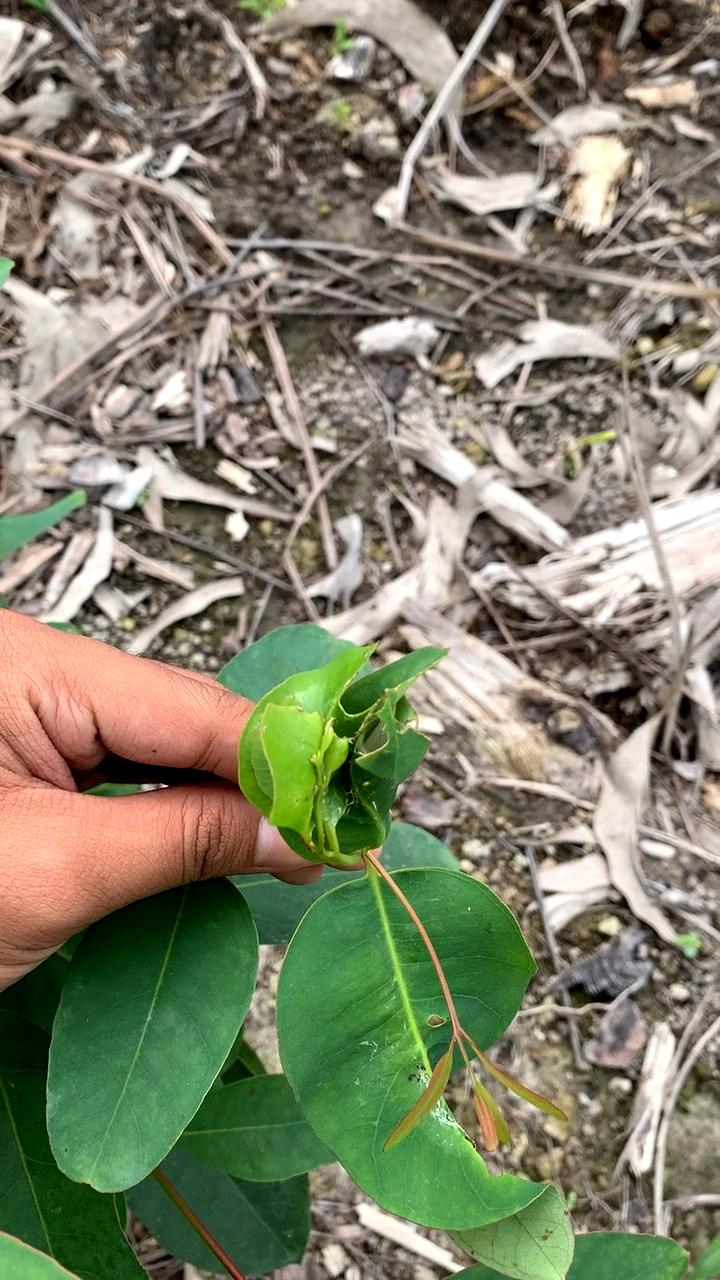Leaf Roller - Leaf: (230, 646, 479, 871)
